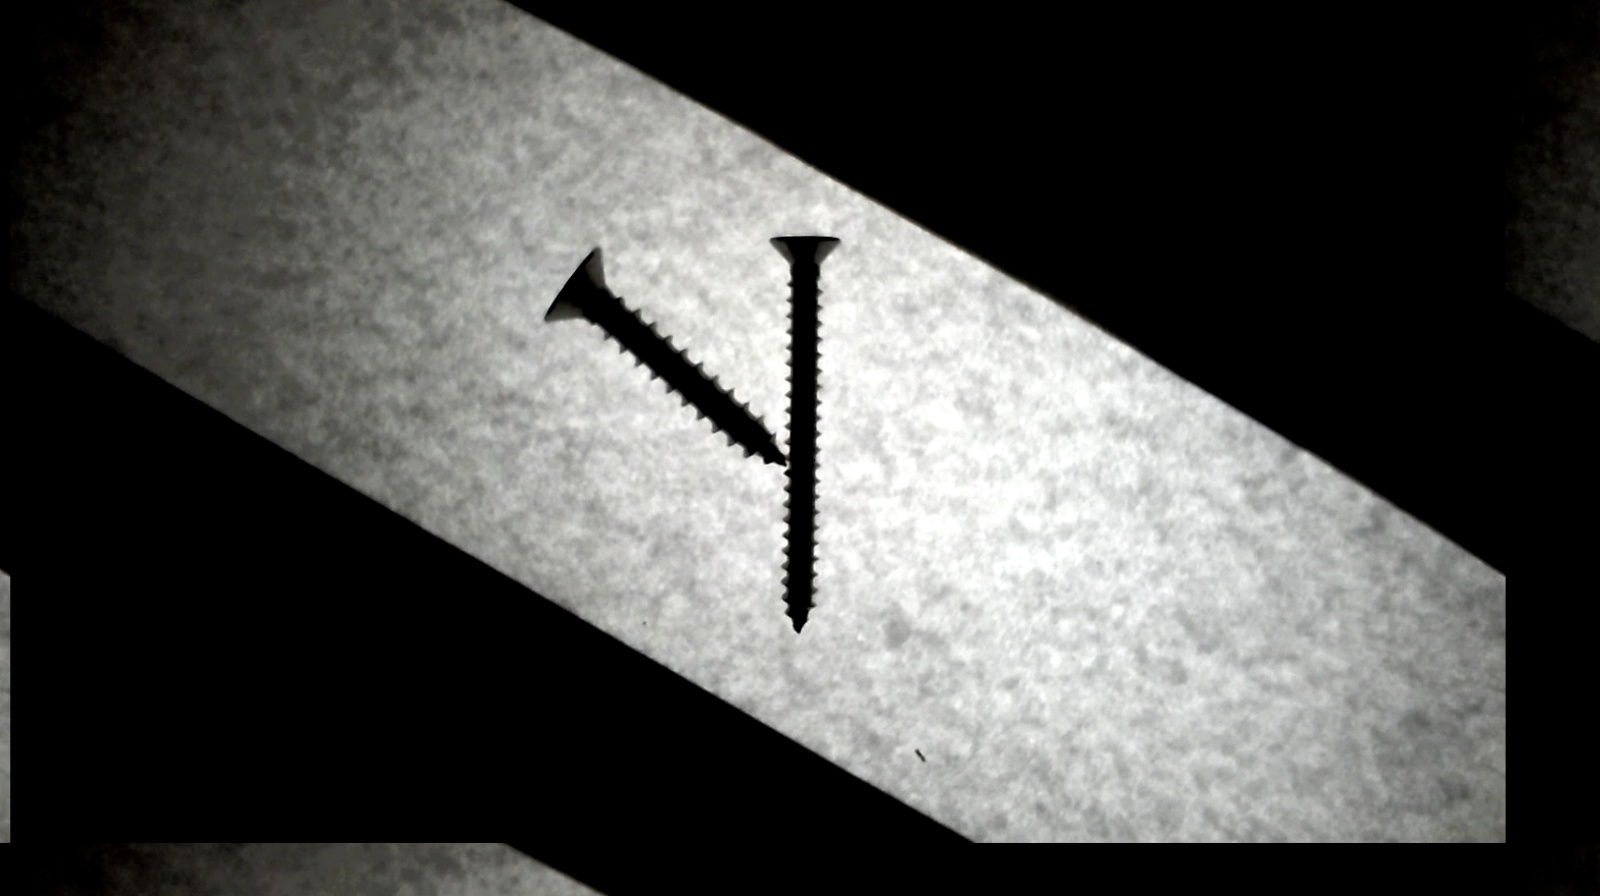S001: (537, 235, 779, 482)
S002: (762, 218, 844, 641)
